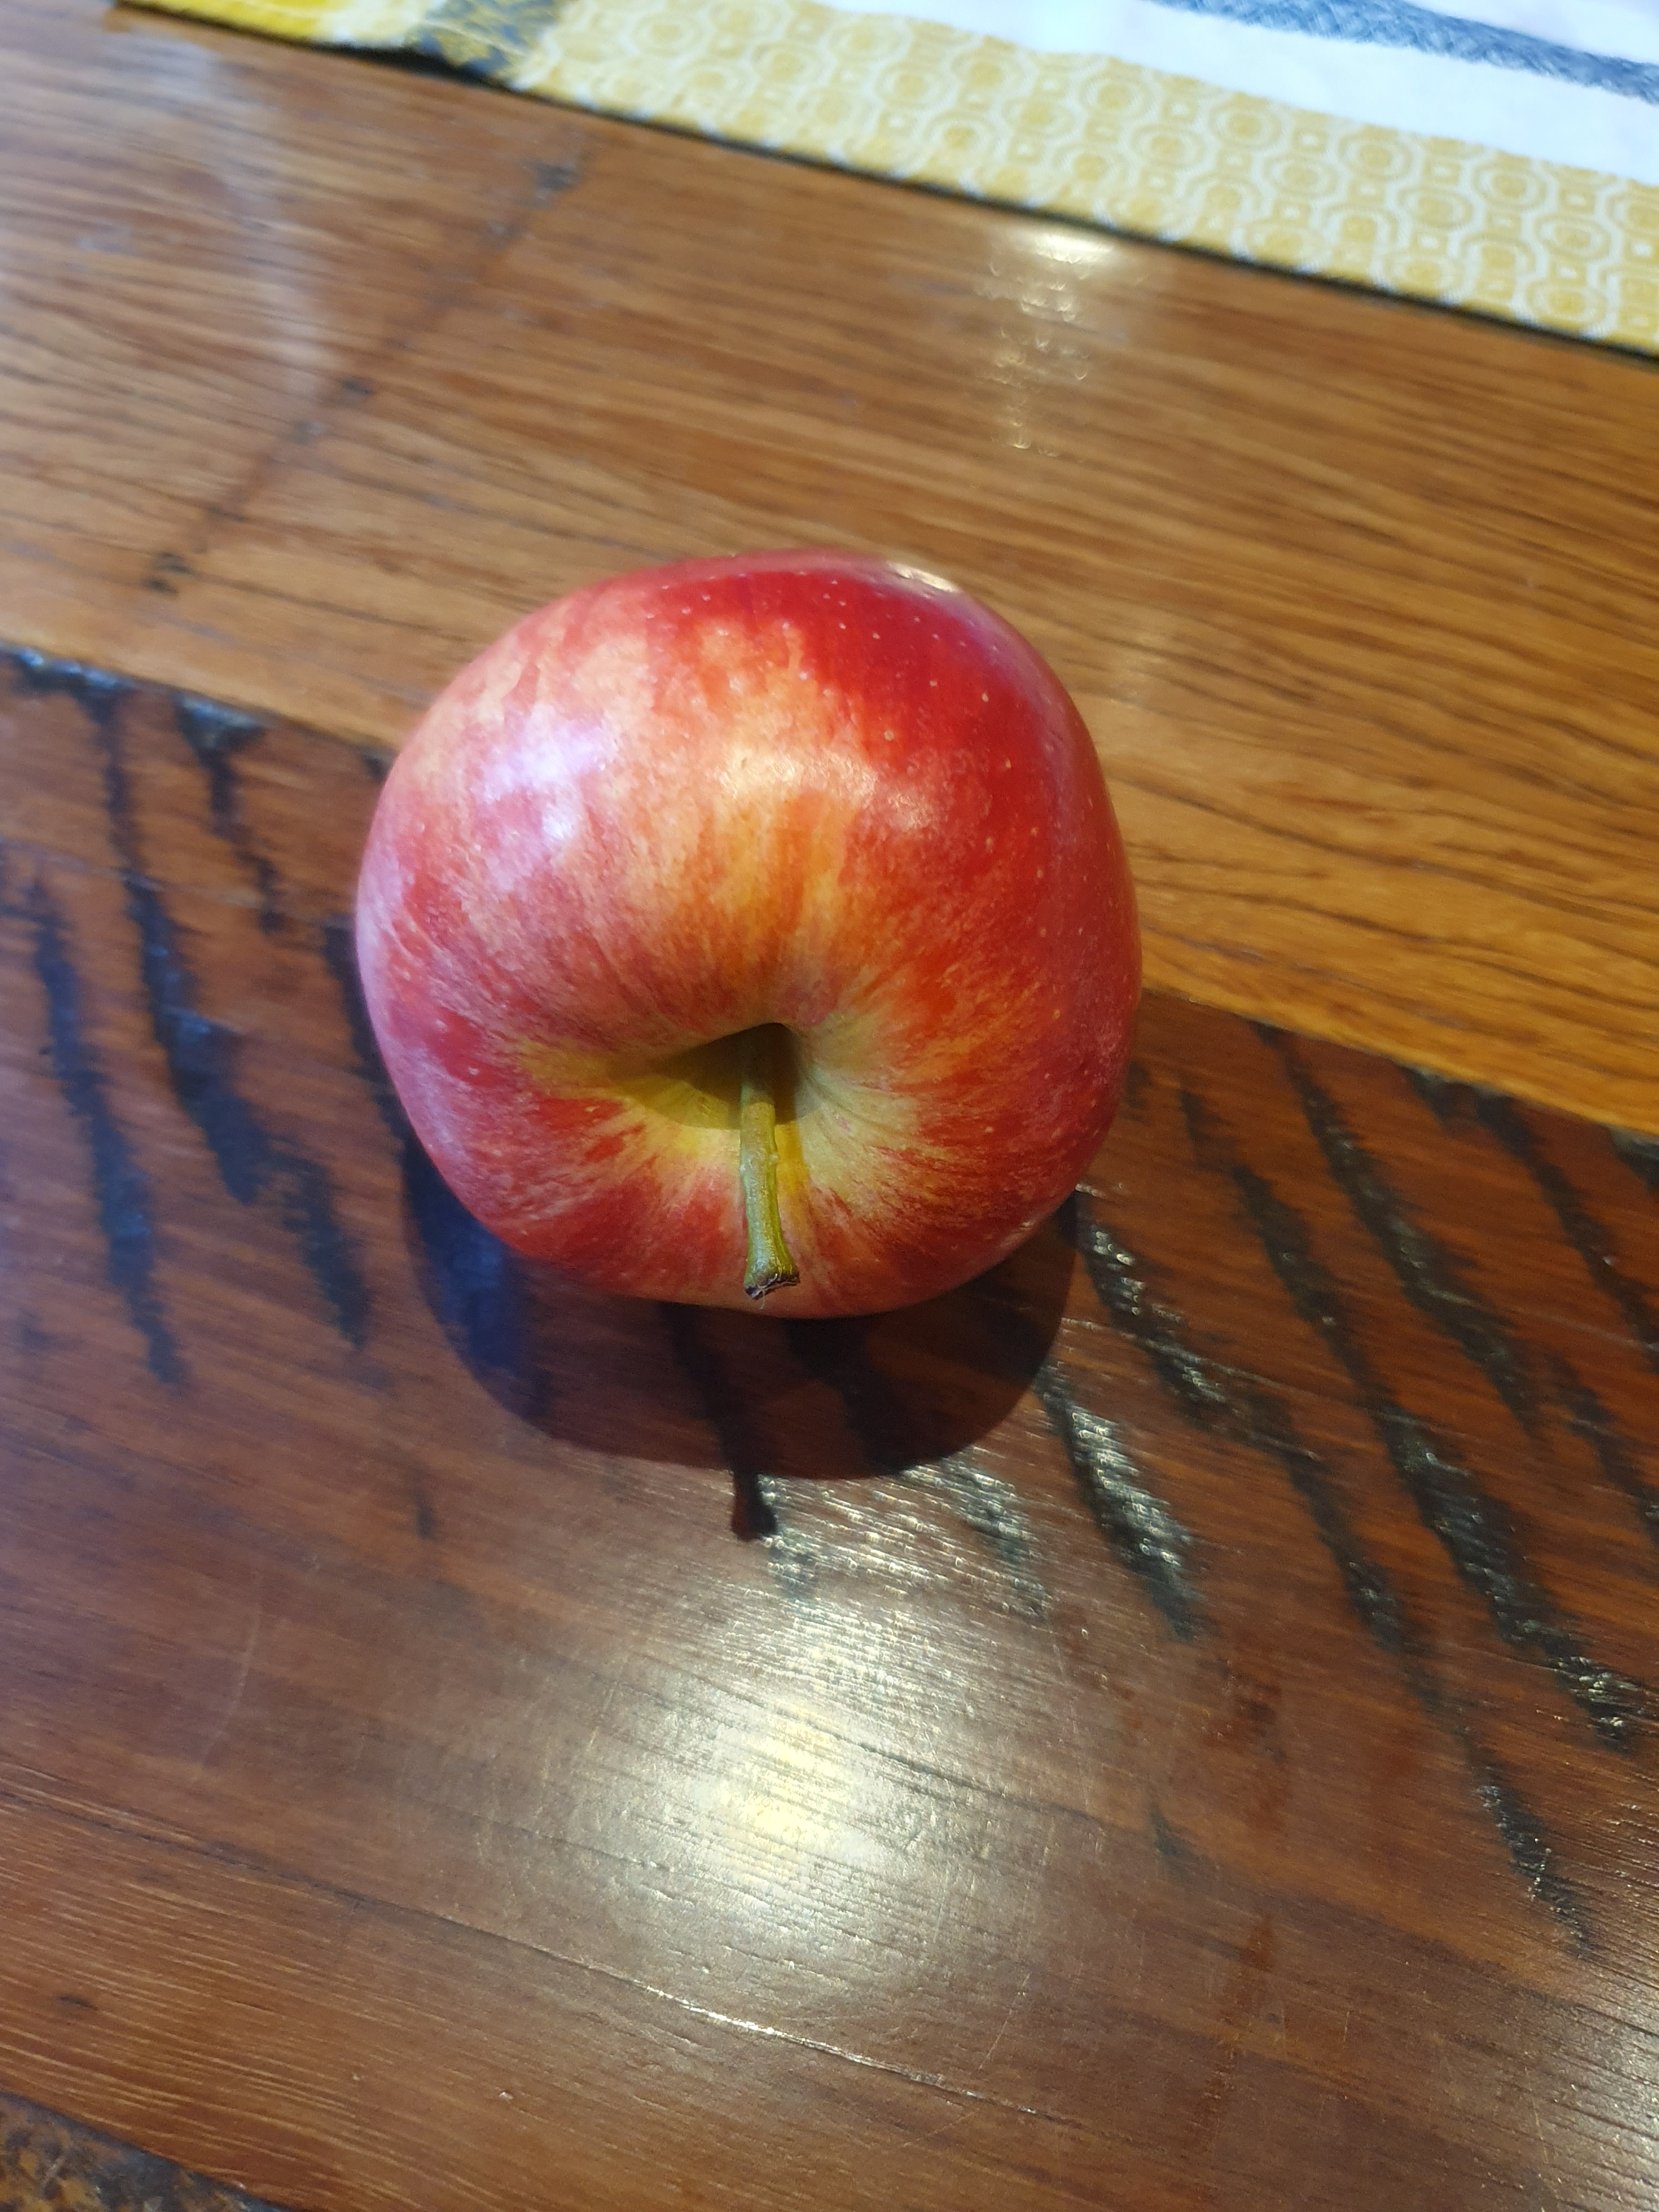red apple: (338, 528, 1161, 1371)
